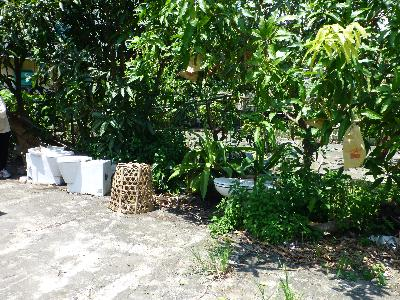box: (63, 159, 111, 196)
plastic_bag: (341, 120, 368, 173)
